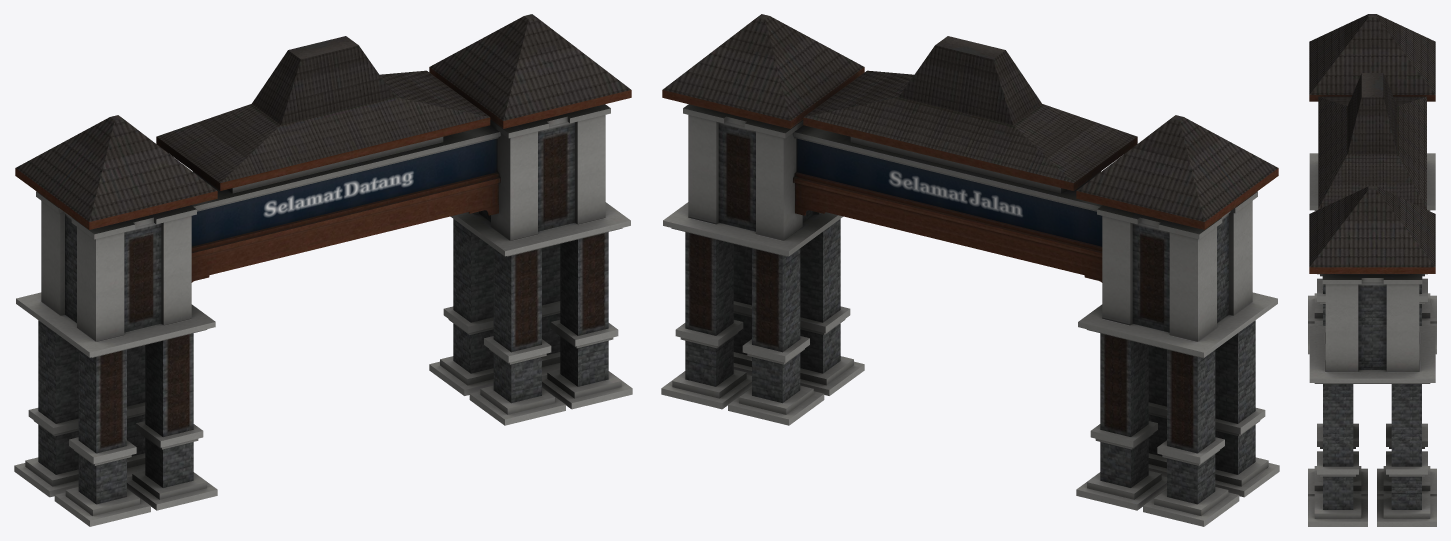
The model's file is gapura_i_gate.glb.
The picture shows the model from 3 angles, left to right: view 1: azimuth 30°, elevation 25°; view 2: azimuth 150°, elevation 25°; view 3: azimuth 270°, elevation 25°; orthographic projection. The views are drawn at different scales.
Parts seen in each view (by area): view 1: Gapura _Gapura_0, SDF_SelamatDatang; view 2: Gapura _Gapura_0, SDF_SelamatJalan; view 3: Gapura _Gapura_0.
Part boxes in pixels (x1,y1,x2,y2): Gapura _Gapura_0: [14, 14, 632, 526]; SDF_SelamatDatang: [264, 171, 413, 217]; Gapura _Gapura_0: [661, 14, 1279, 526]; SDF_SelamatJalan: [889, 170, 1022, 216]; Gapura _Gapura_0: [1308, 14, 1436, 526].
Size of the model in its own units: 21.5 by 14.59 by 5.19.
Materials: 2 (2 with a texture image).
